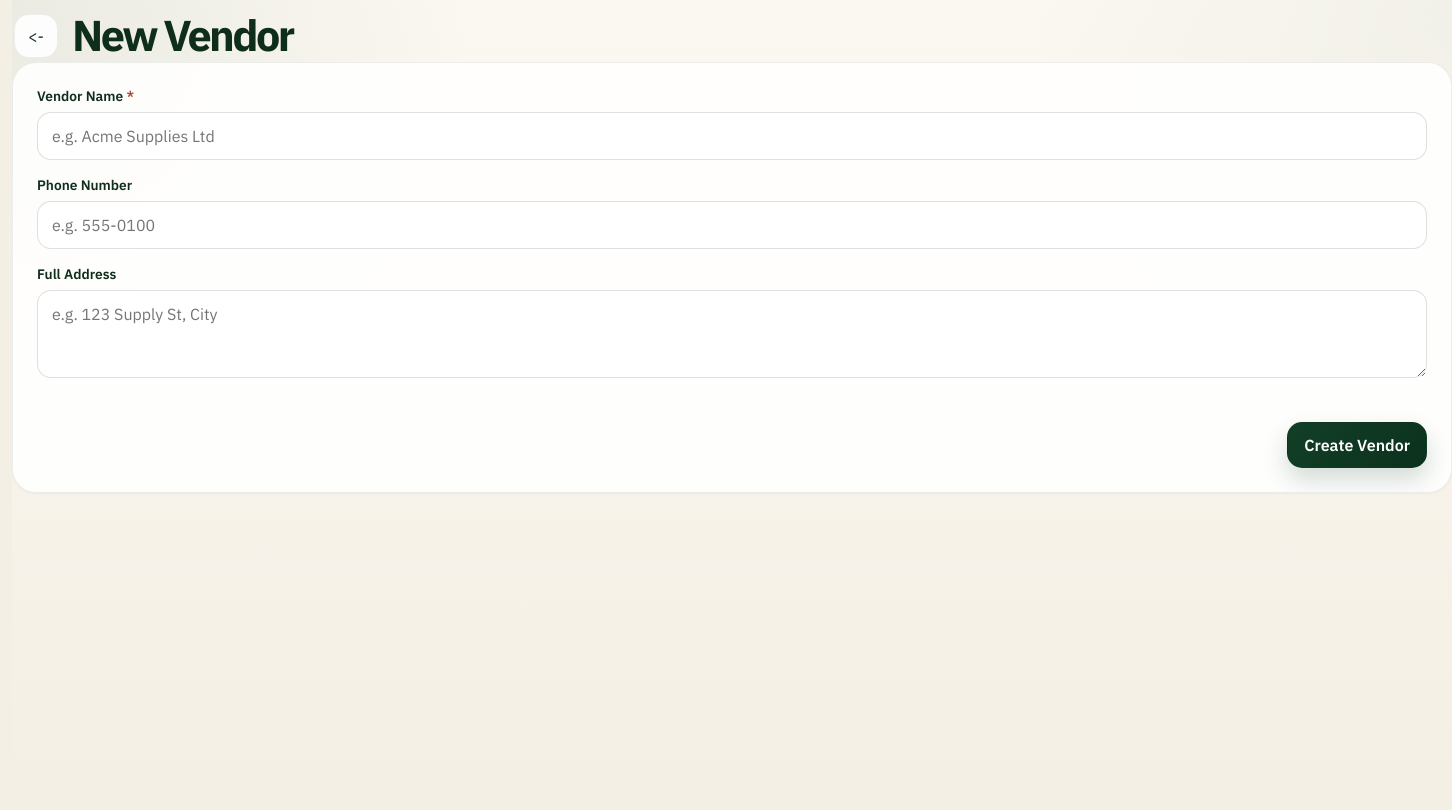
Scenario: VendorFormPage › shows error message on API failure
Type "Test Vendor" into the field with placeholder "e.g. Acme Supplies Ltd" at (732, 136), box [37,112,1427,160]
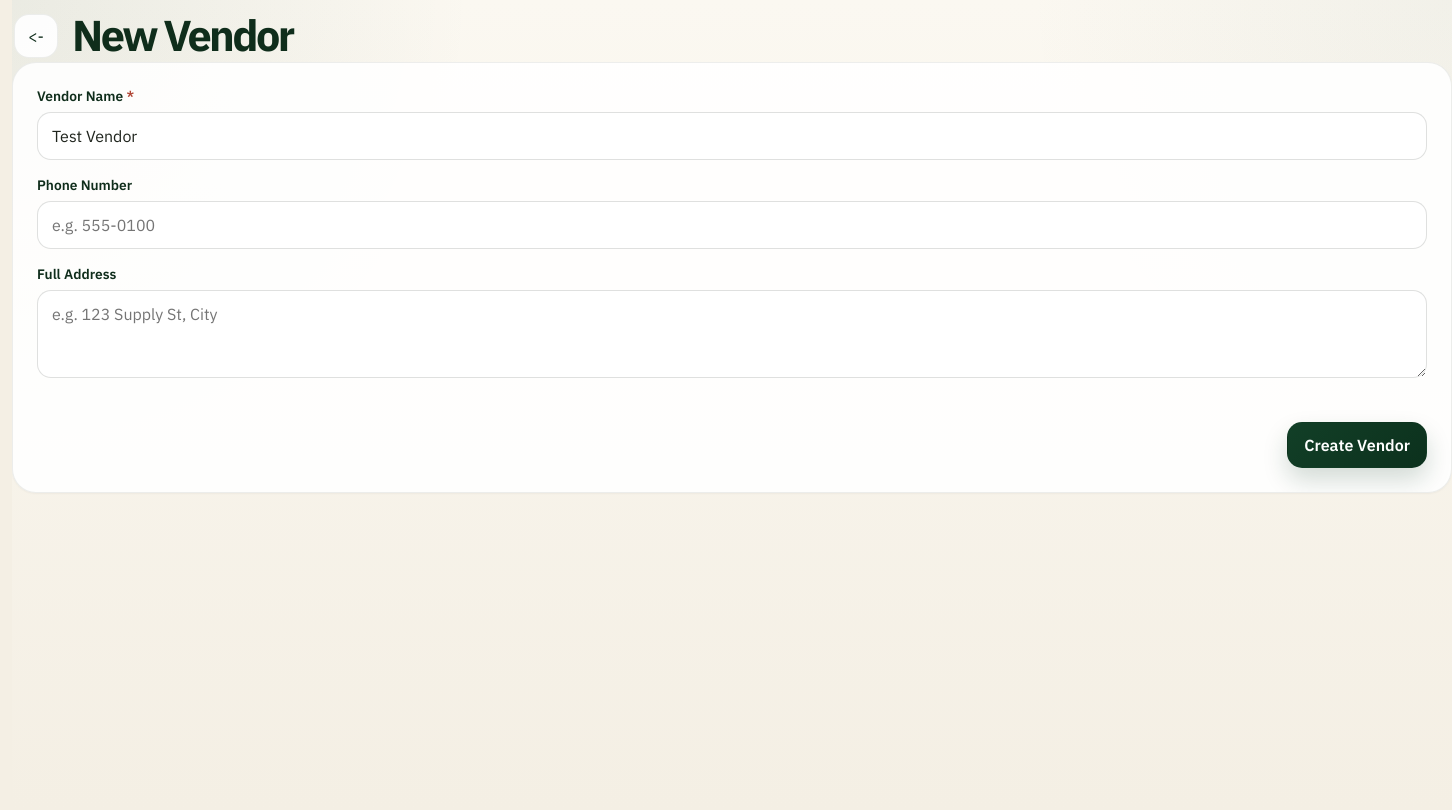
Click the button "Create Vendor" at (1357, 445), box [1287,422,1427,468]
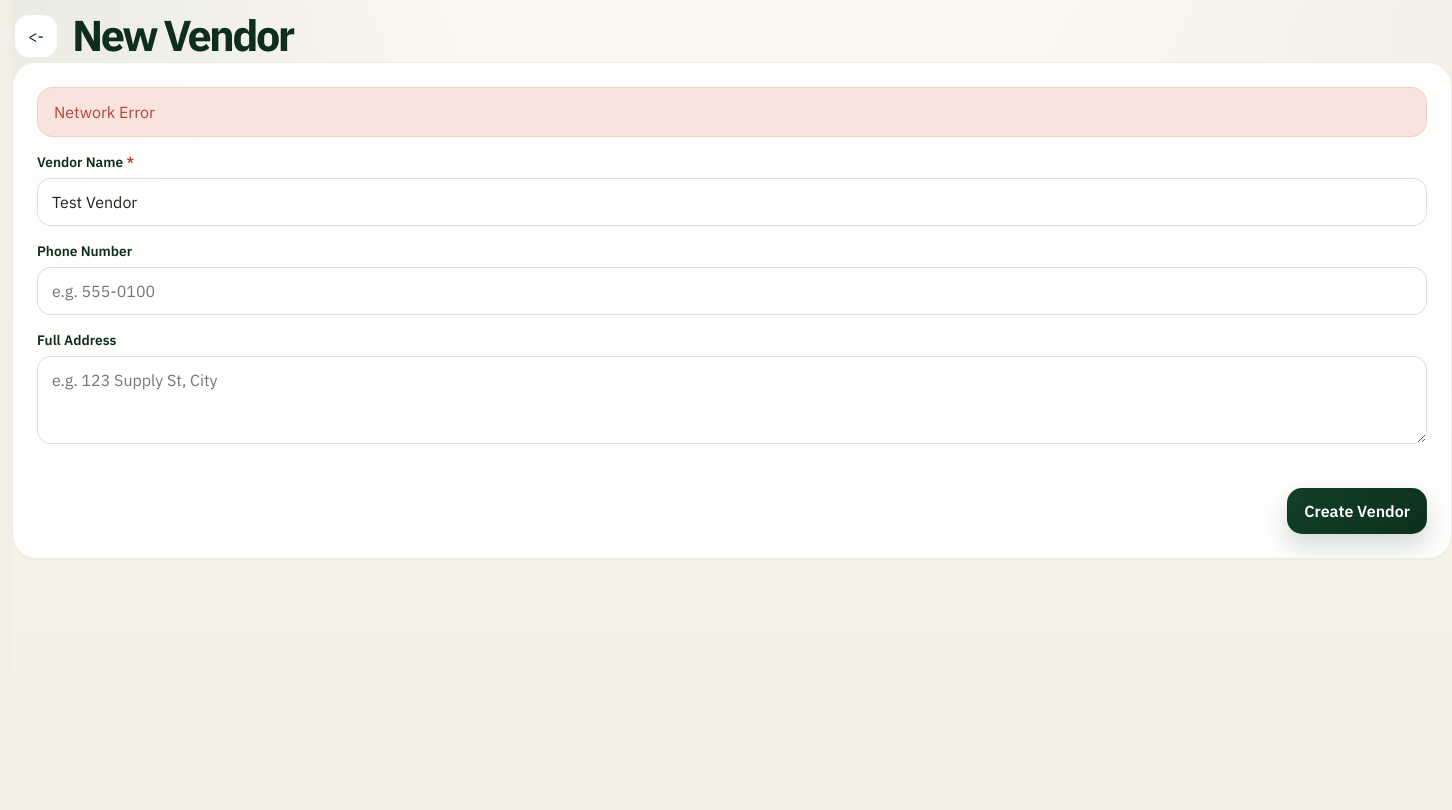
Result: the text "Network Error" is shown at [37,87,1427,137]
